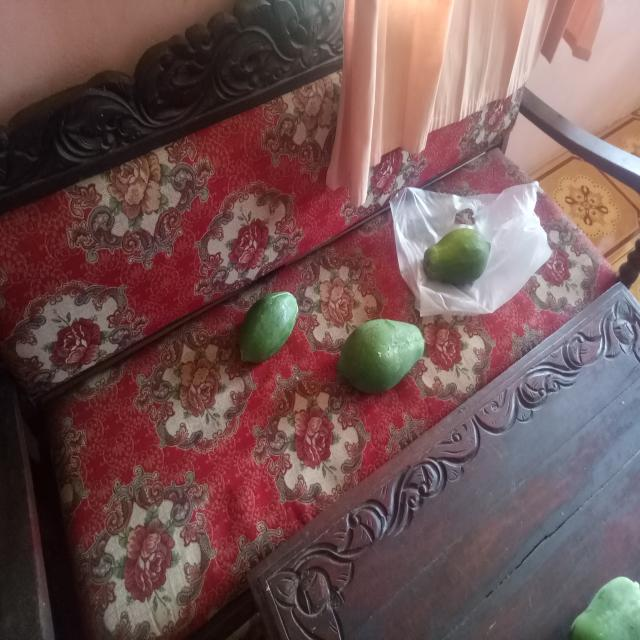Pepaya unrippen: (332, 315, 435, 390), (413, 231, 506, 289), (238, 287, 302, 368)
